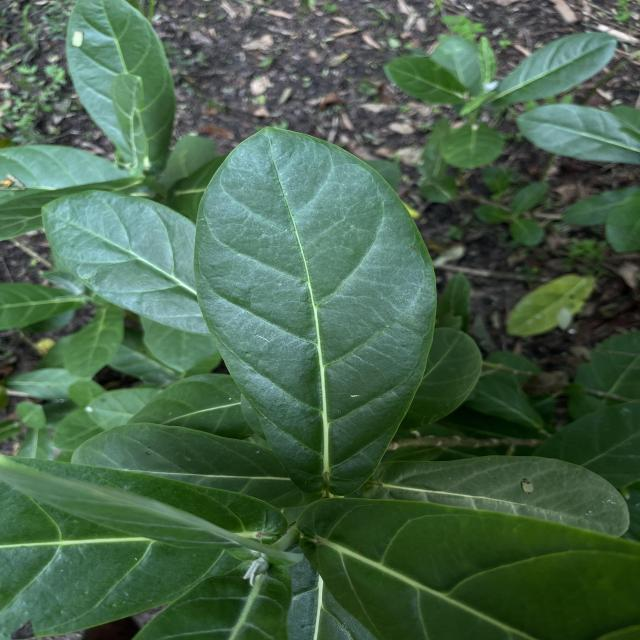Calotropis gigantea: (186, 118, 444, 498), (38, 188, 228, 332), (57, 0, 183, 168), (496, 22, 620, 98), (508, 97, 640, 165)
